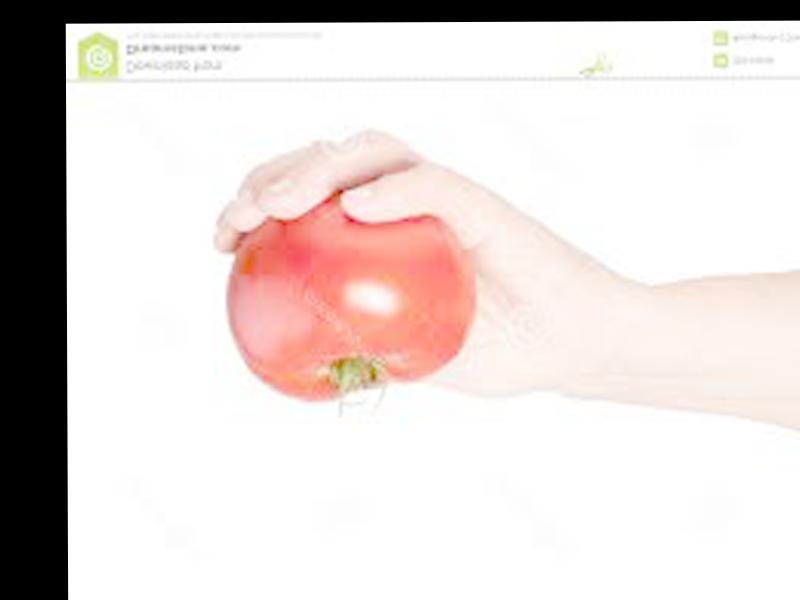Tomato: (225, 192, 480, 404)
